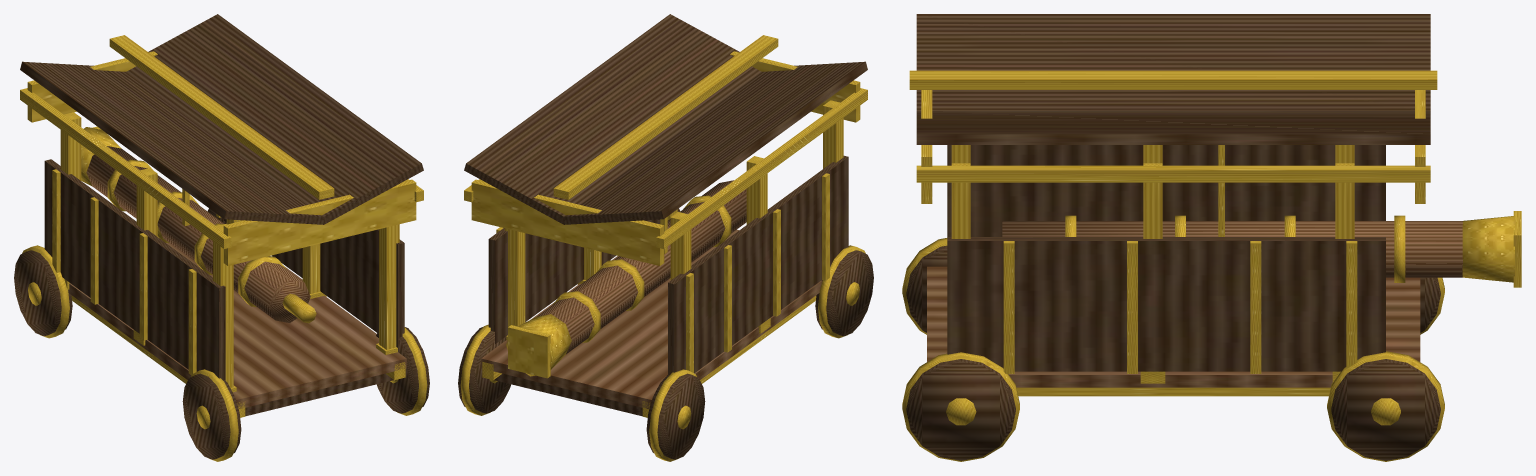
The model's file is ae_ram_royal_lod0.glb.
The picture shows the model from 3 angles, left to right: view 1: azimuth 30°, elevation 25°; view 2: azimuth 150°, elevation 25°; view 3: azimuth 270°, elevation 25°; orthographic projection. The views are drawn at different scales.
Parts seen in each view (by area): view 1: roofR, wallL, roofL, floor, gable_r, log_core, wallR, ridge, eaveL, wheel_RL_rim, wheel_FL_rim, post_1_0 (+19 smaller); view 2: roofR, roofL, wallL, floor, gable_f, log_core, wallR, ridge, eaveL, wheel_FL_rim, wheel_RL_rim, wheel_FR_rim (+20 smaller); view 3: wallR, roofL, wallL, roofR, ridge, floor, eaveR, log_core, wheel_RR_rim, wheel_FR_rim, ram_head, runnerR (+17 smaller).
Part boxes in pixels (x1,y1,x2,y2): roofR: (126, 14, 423, 224); wallL: (44, 159, 225, 380); roofL: (20, 61, 325, 224); floor: (68, 243, 406, 408); gable_r: (223, 179, 416, 265); log_core: (86, 146, 310, 322); wallR: (224, 219, 404, 347); ridge: (109, 35, 334, 199); eaveL: (20, 88, 231, 248); wheel_RL_rim: (182, 373, 241, 459); wheel_FL_rim: (14, 250, 72, 336); post_1_0: (379, 224, 399, 349); roofR: (464, 14, 761, 224); roofL: (562, 61, 867, 224); wallL: (668, 155, 848, 374); floor: (481, 229, 822, 409); gable_f: (471, 179, 664, 265); log_core: (537, 180, 746, 354); wallR: (488, 219, 660, 343); ridge: (553, 35, 778, 199); eaveL: (656, 88, 867, 248); wheel_FL_rim: (646, 373, 705, 459); wheel_RL_rim: (815, 250, 873, 336); wheel_FR_rim: (458, 327, 510, 413); wallR: (947, 237, 1385, 371); roofL: (916, 14, 1430, 110); wallL: (947, 145, 1385, 236); roofR: (916, 111, 1430, 144); ridge: (909, 70, 1437, 89); floor: (927, 266, 1420, 387); eaveR: (916, 165, 1430, 182); log_core: (1002, 221, 1462, 277); wheel_RR_rim: (906, 359, 1015, 460); wheel_FR_rim: (1331, 359, 1440, 460); ram_head: (1462, 216, 1514, 282); runnerR: (1016, 387, 1330, 396).
Size of the model in its own units: 2.2 by 2.64 by 4.52.
Materials: 2 (2 with a texture image).
